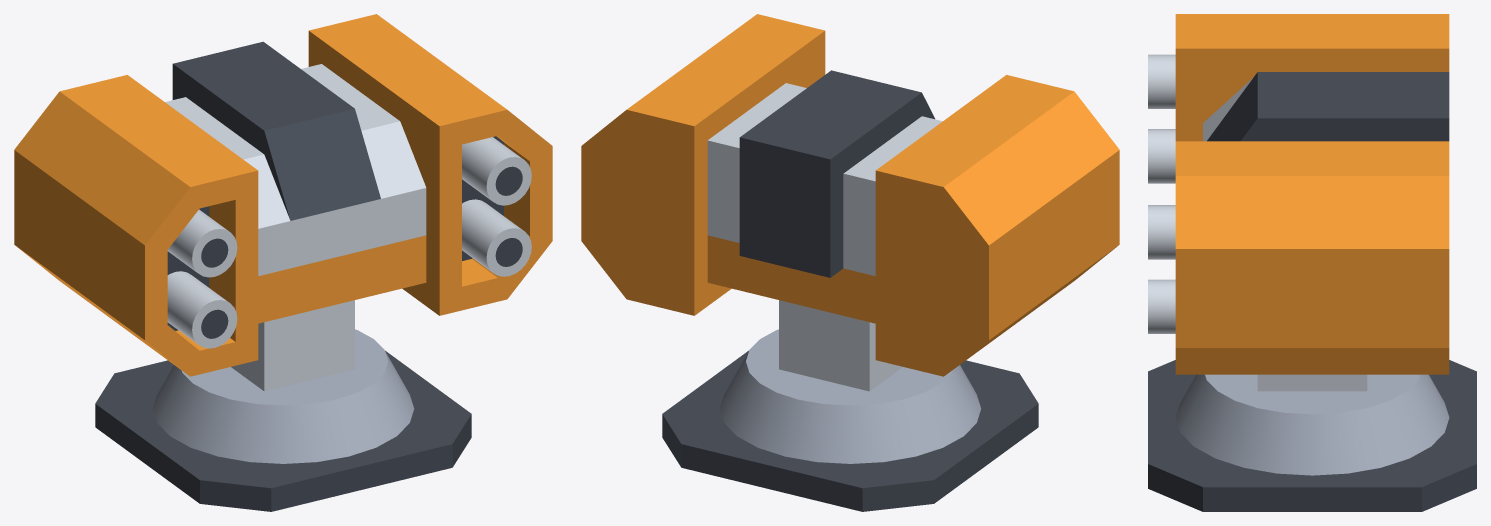
Rendered from turret_double.dae.
The picture shows the model from 3 angles, left to right: view 1: azimuth 30°, elevation 25°; view 2: azimuth 150°, elevation 25°; view 3: azimuth 270°, elevation 25°; orthographic projection. The views are drawn at different scales.
Parts seen in each view (by area): view 1: turret, turret_double; view 2: turret, turret_double; view 3: turret, turret_double.
Part boxes in pixels (<box>): turret: <box>14,14,552,376</box>; turret_double: <box>95,300,471,511</box>; turret: <box>581,14,1119,376</box>; turret_double: <box>662,300,1038,511</box>; turret: <box>1148,14,1449,374</box>; turret_double: <box>1148,360,1476,511</box>.
Bounding box in the file's own units: 0.9 × 0.7 × 0.6.
